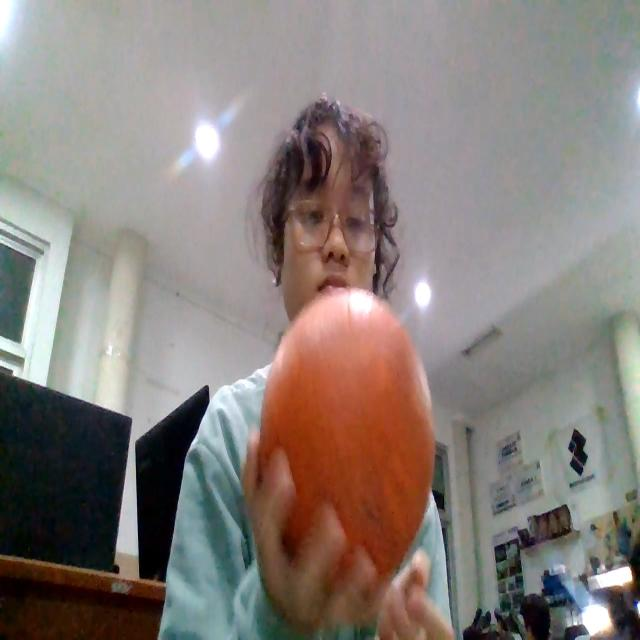ball: (257, 285, 436, 586)
